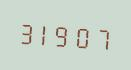nine: (56, 19, 74, 50)
one: (37, 18, 55, 49)
seven: (94, 22, 112, 53)
three: (18, 16, 36, 47)
zero: (75, 20, 93, 51)
